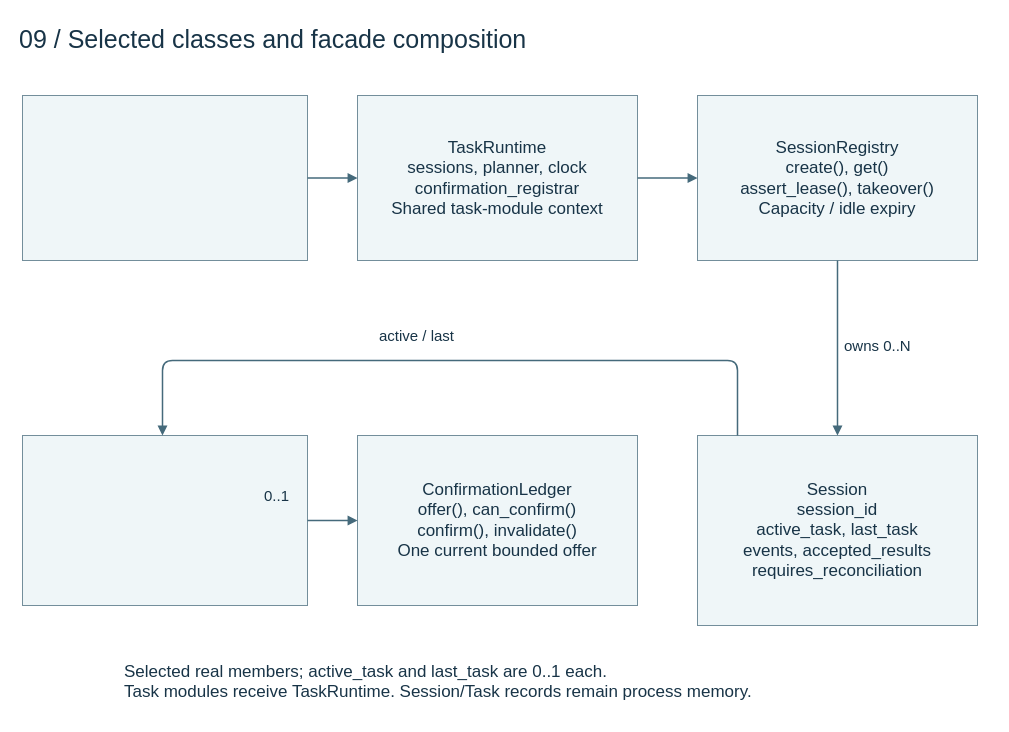
The diagram is 1009 pixels wide and 732 high, and some of its shapes have lost their labels. Each missing label, with the centre of its shape:
"ActiveTask task_id, status action, confirmation mutation_proposal" goes at (x=165, y=520).
"SessionStore create(), submit_message() accept_result(), reconcile() stop()" goes at (x=165, y=177).
